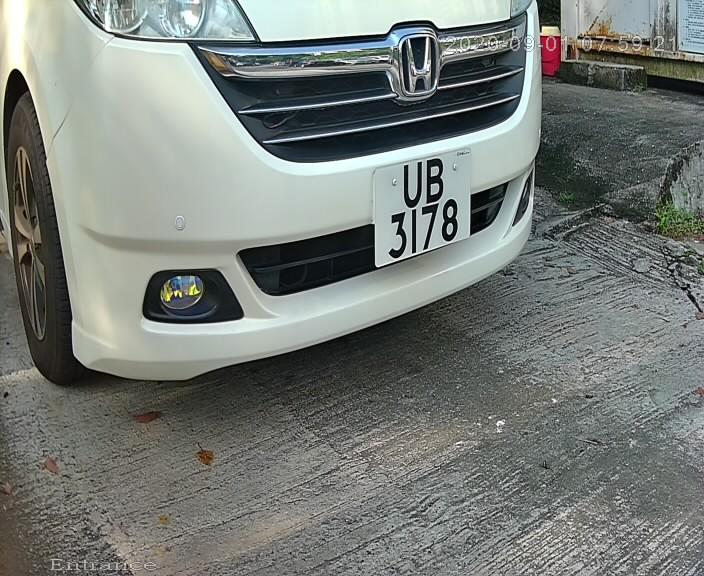License Plate: (365, 137, 485, 268)
